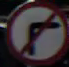Don't turn right: (12, 8, 61, 59)
